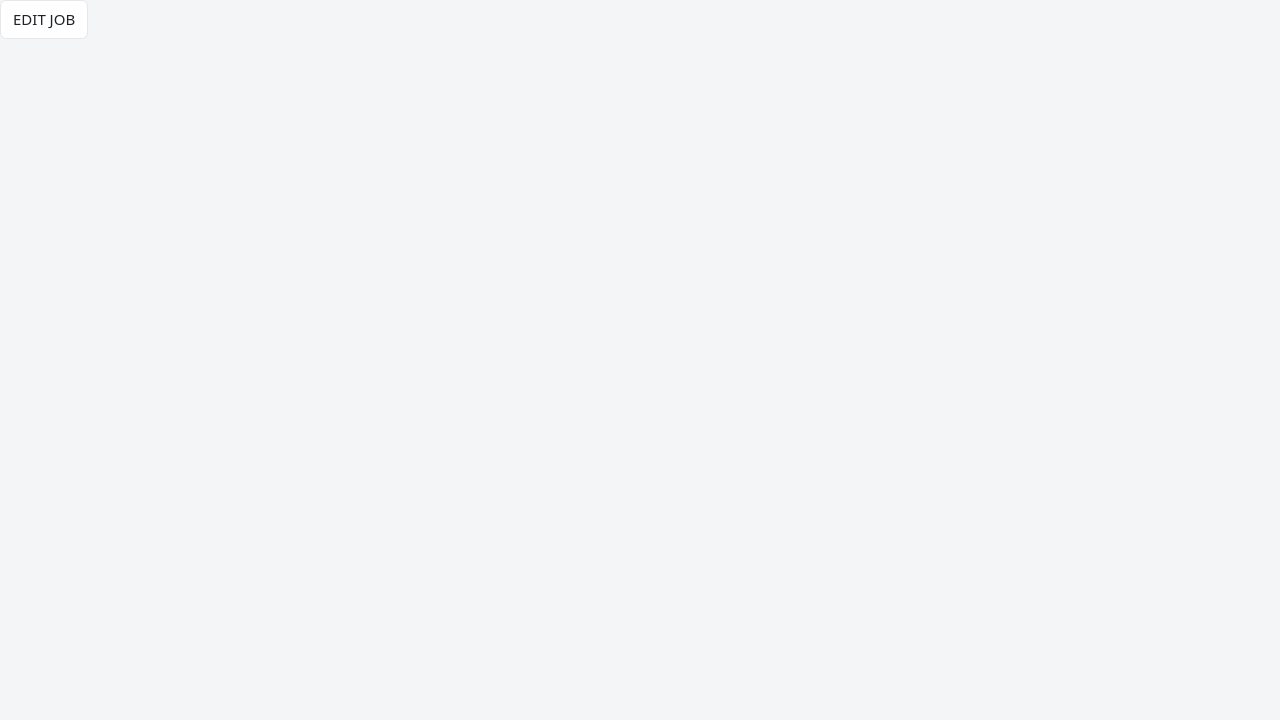
Test: EditJob › offers Archive job… only with job.delete (admin and KR admin, not staff)
Later steps or results of the test are not shown.
Click the button "EDIT JOB" at (44, 19), box 0,0 -> 88,38
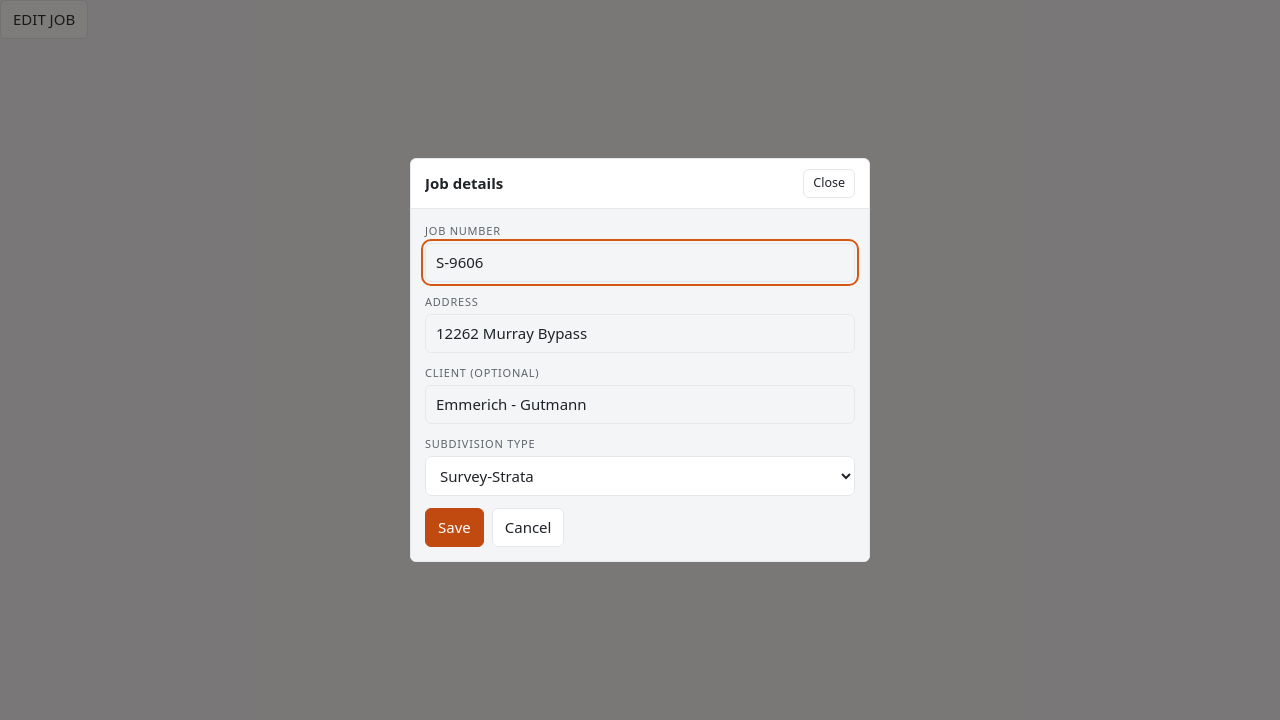
expect the dialog "Job details" is shown: met, box 410,158 -> 870,562
